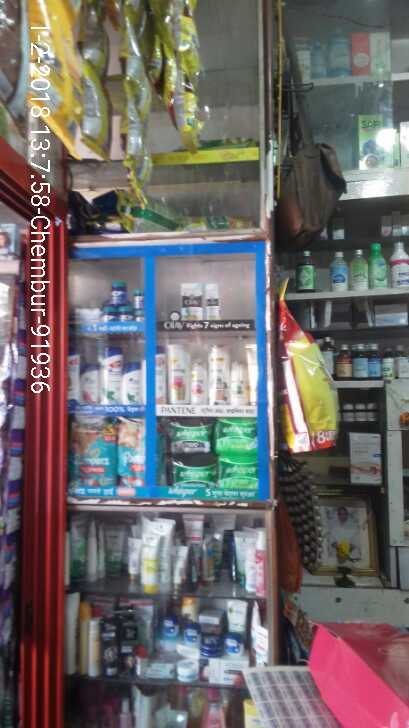vicks: (99, 279, 145, 322)
